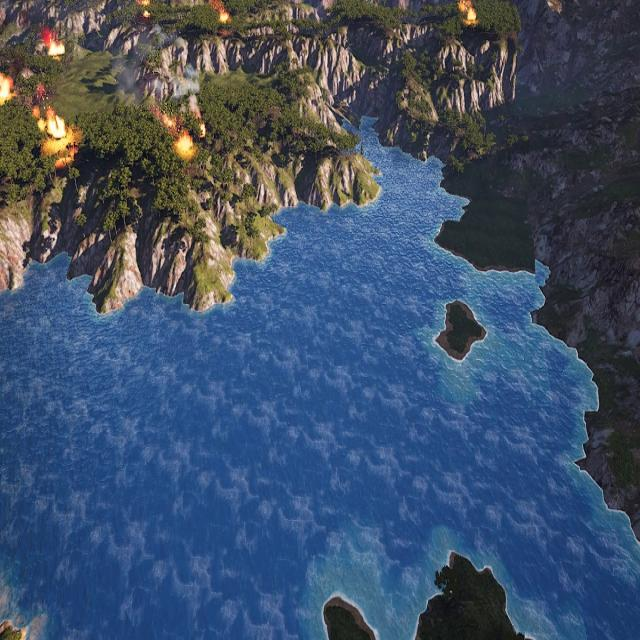fire: (33, 105, 77, 152), (43, 27, 64, 56), (0, 75, 14, 107), (458, 0, 477, 23), (136, 0, 152, 22), (177, 136, 193, 154), (218, 10, 229, 22), (199, 122, 206, 139)
smoke: (111, 46, 201, 114)
